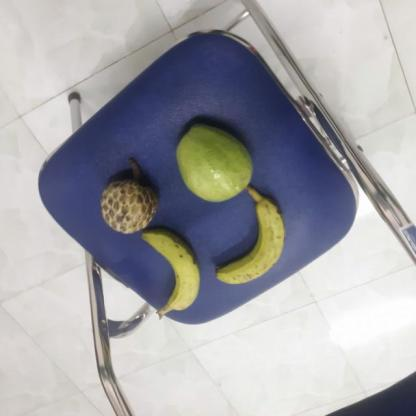annona: (100, 174, 160, 234)
banana: (213, 196, 290, 284), (140, 230, 204, 315)
guava: (176, 123, 257, 203)
